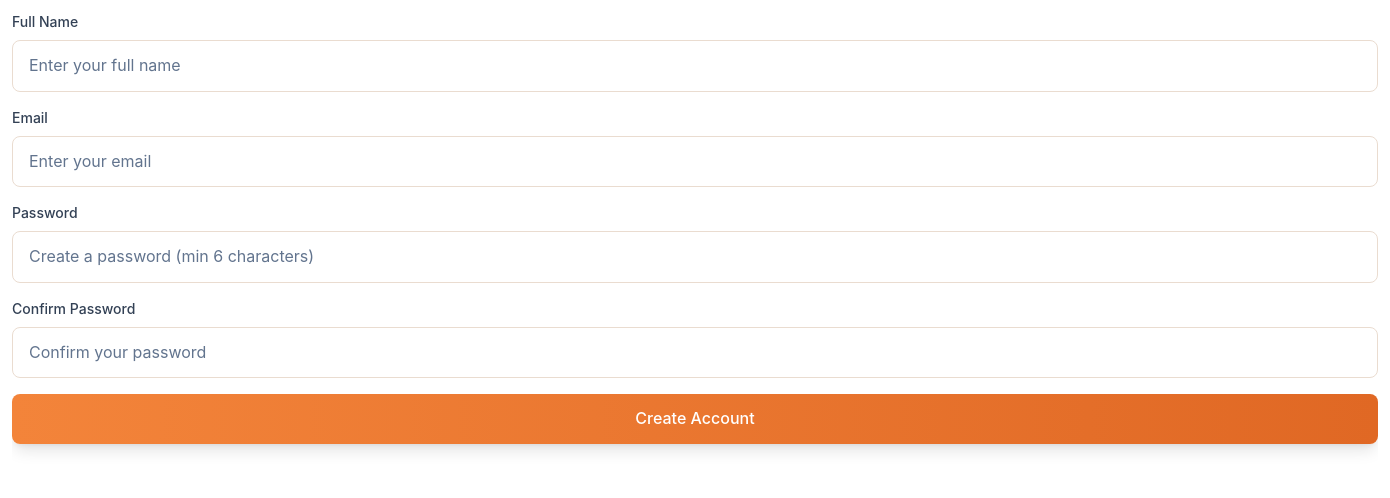
Test: RegisterForm › Form Validation › clears password match error when passwords match
Note: First make them not match
Type "password123" into the password field labelled "Password".
click(695, 257); type("password123")  # box [12,231,1378,283]
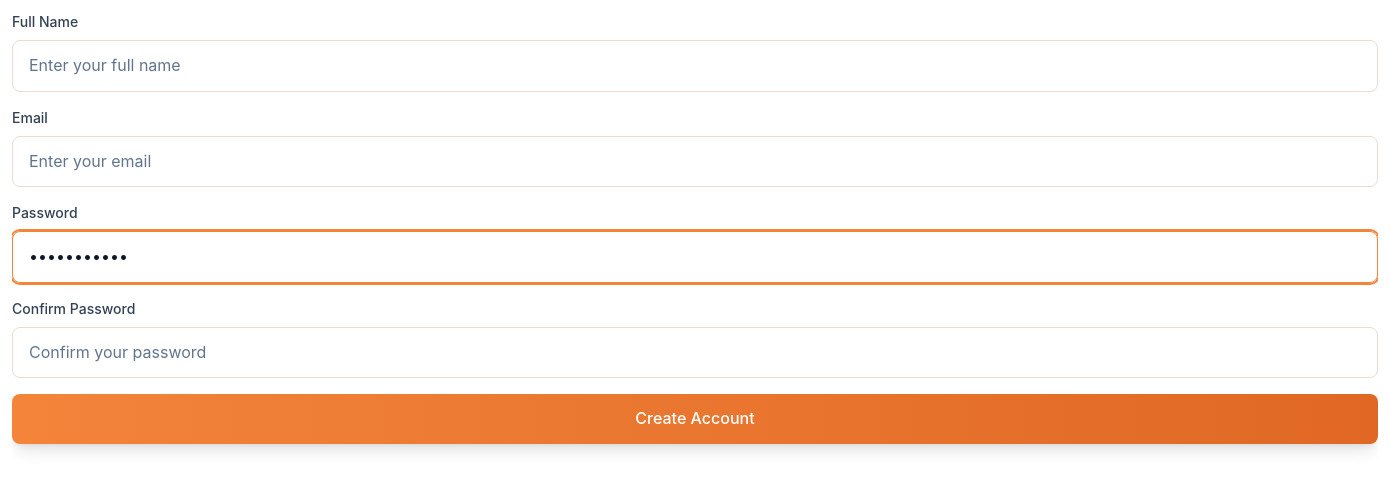
Type "differentpassword" into the password field labelled "Confirm Password".
click(695, 353); type("differentpassword")  # box [12,327,1378,378]
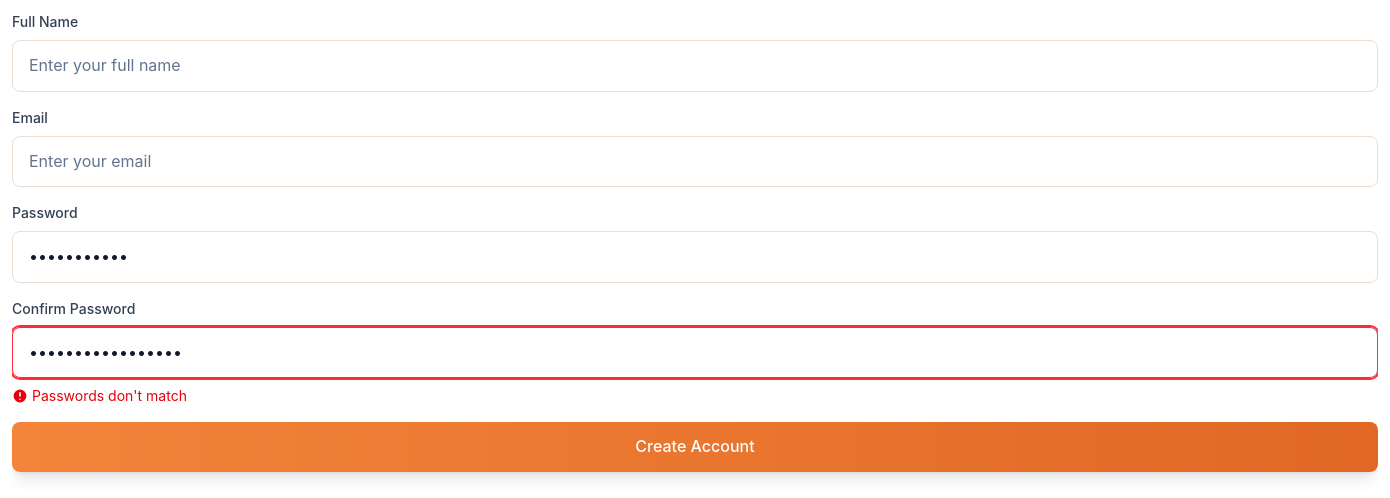
Press Tab
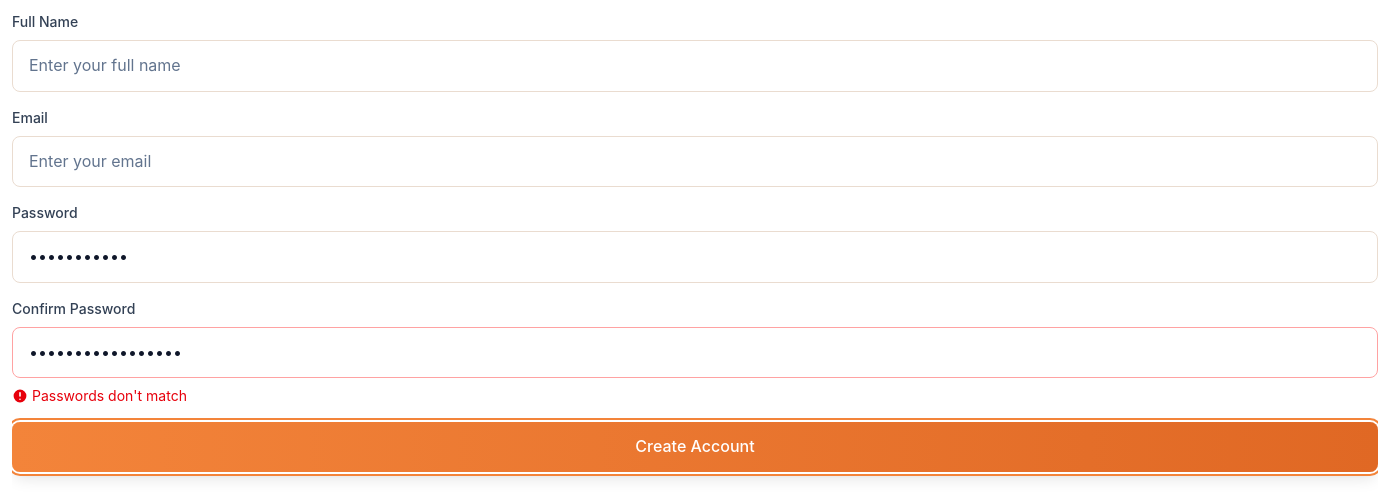
Now the text "Passwords don't match" is shown, box [12,387,187,404]
Note: Then make them match
Type "password123" into the password field labelled "Confirm Password".
click(695, 353); type("password123")  # box [12,327,1378,378]
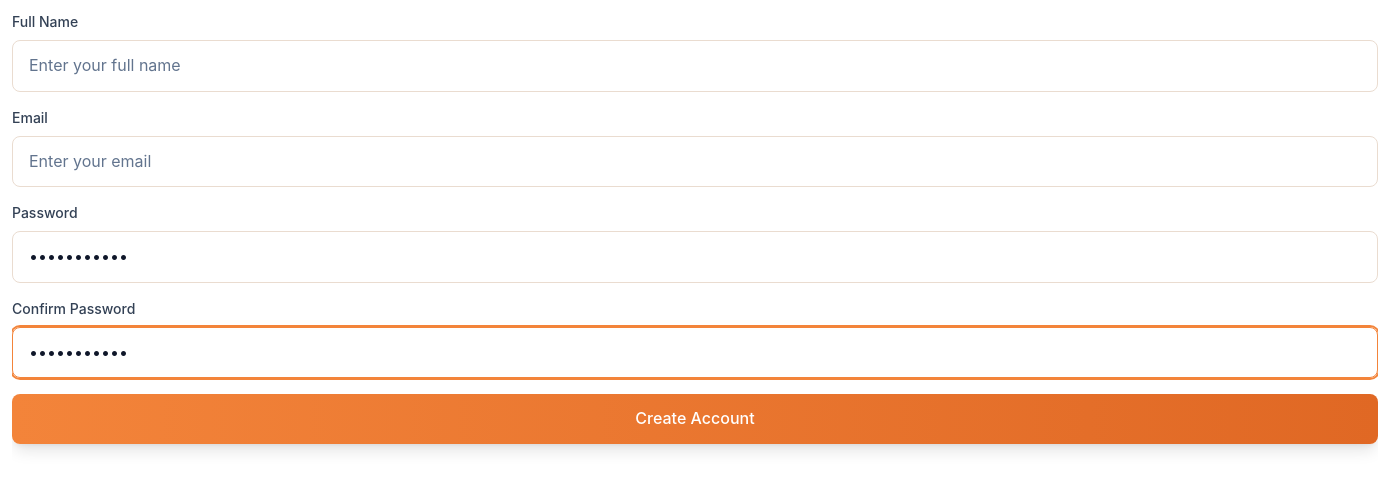
Now the text "Passwords don't match" is gone
